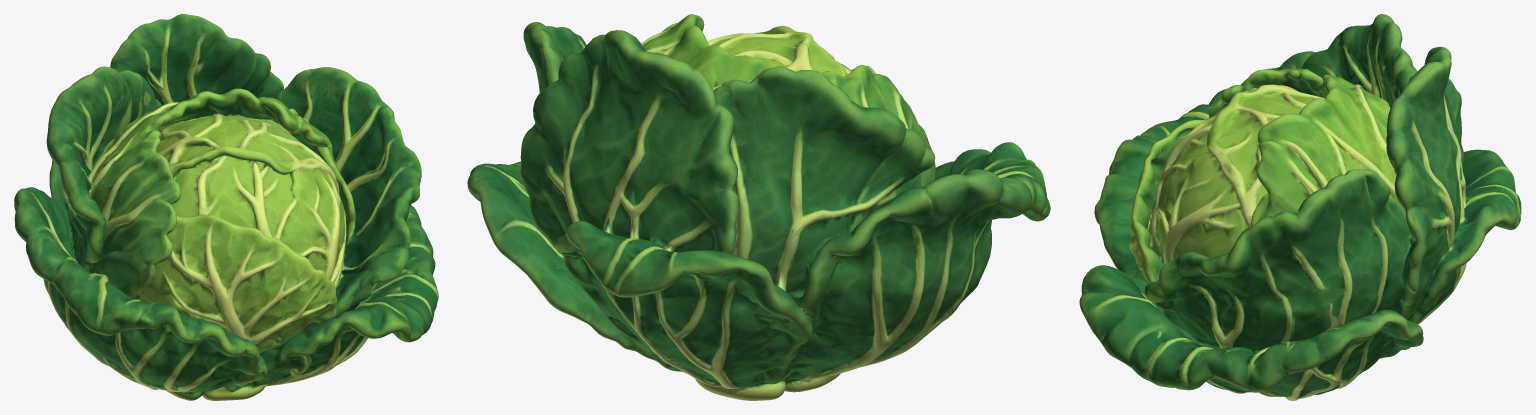
Rendered from cabbage-mature.glb.
The picture shows the model from 3 angles, left to right: view 1: azimuth 30°, elevation 25°; view 2: azimuth 150°, elevation 25°; view 3: azimuth 270°, elevation 25°; orthographic projection. The views are drawn at different scales.
Size of the model in its own units: 1.9 by 1.36 by 1.68.
1 material, 1 textured.
